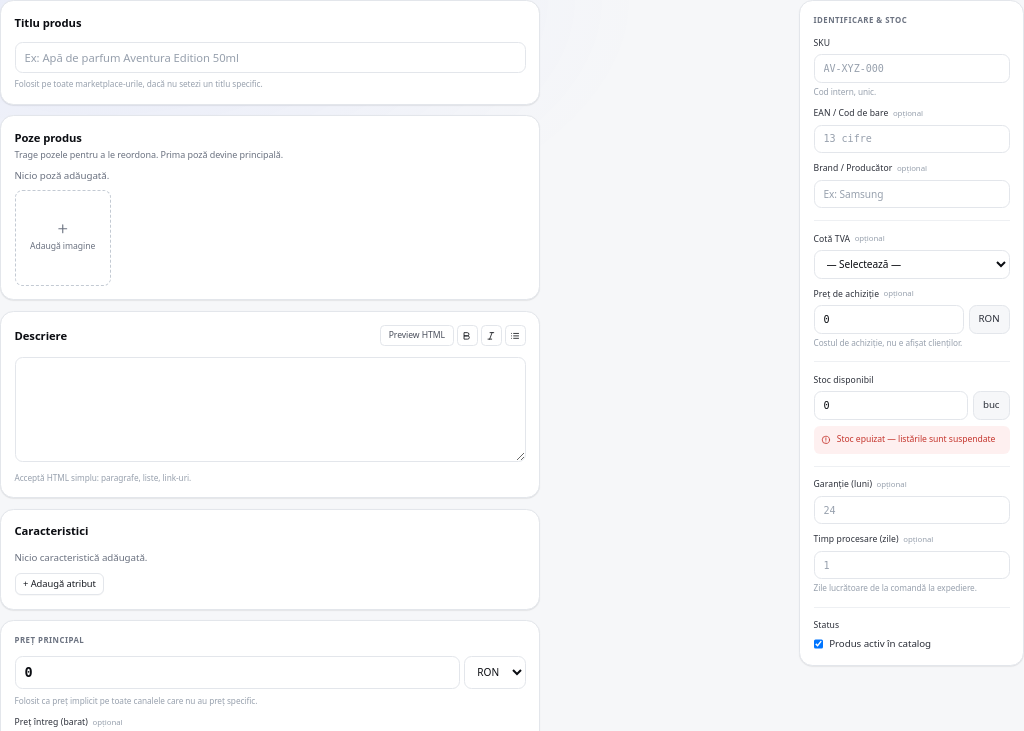
Test: ProductForm (create mode) › appends image rows when clicking add image
Expected: the text "Nicio poză adăugată." is shown, [14,169,109,182]
Click the button "Adaugă imagine": (63, 238) [14,190,111,286]
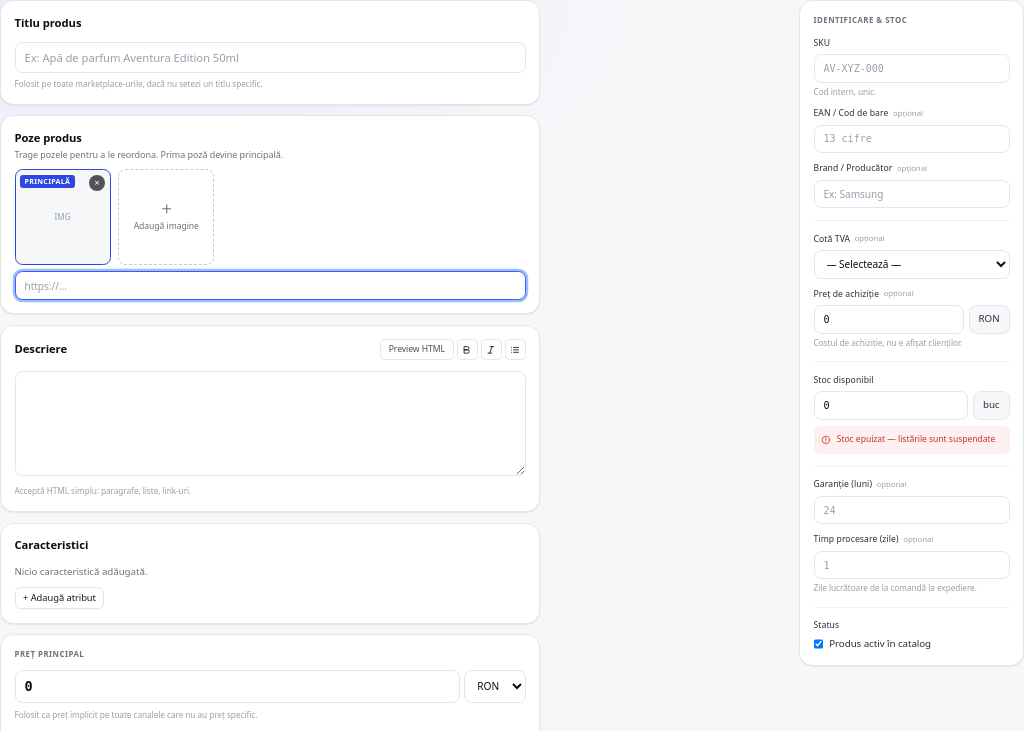
Now the field named "URL imagine 1" is shown, box [14,271,526,300]
